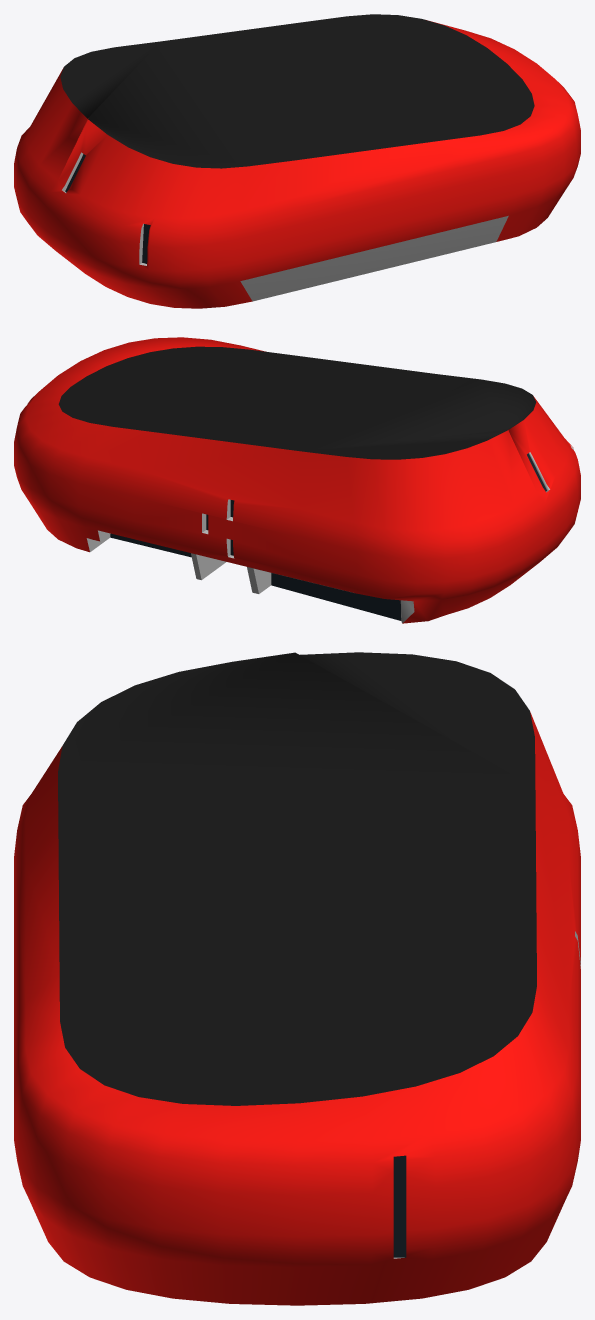
The model's file is Smitsborg.fbx.
3 views of the same model, one above another, from view 1: azimuth 30°, elevation 25°; view 2: azimuth 150°, elevation 25°; view 3: azimuth 270°, elevation 25° (orthographic). The views are drawn at different scales.
Parts seen in each view (by area): view 1: Box002; view 2: Box002; view 3: Box002.
Boxes of the visible parts, box(x1,y1,x2,y2) form: Box002: box(14, 14, 580, 308); Box002: box(14, 337, 580, 623); Box002: box(14, 652, 580, 1305).
Bounding box in the file's own units: 318 × 96.63 × 175.
